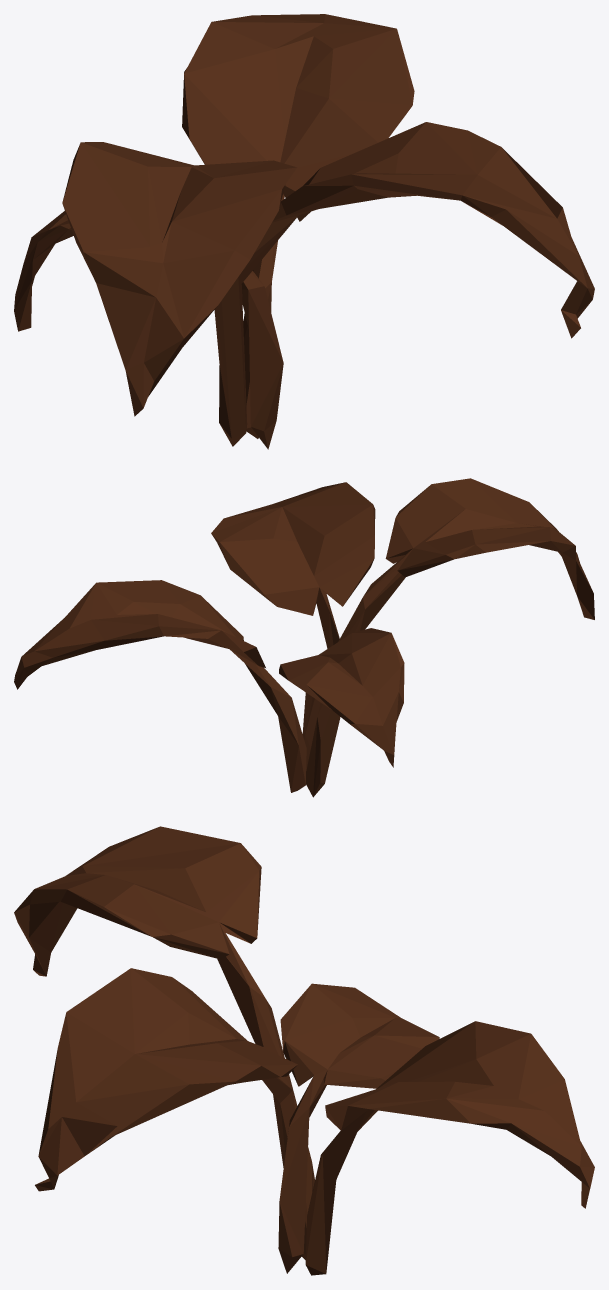
Rendered from ShrubLeaves02.fbx.
The picture shows the model from 3 angles, top to bottom: view 1: azimuth 30°, elevation 25°; view 2: azimuth 150°, elevation 25°; view 3: azimuth 270°, elevation 25°; orthographic projection. The views are drawn at different scales.
Parts seen in each view (by area): view 1: ShrubLeaves02; view 2: ShrubLeaves02; view 3: ShrubLeaves02.
Boxes of the visible parts, left/top/right/bottom form: ShrubLeaves02: left=14, top=14, right=594, bottom=449; ShrubLeaves02: left=14, top=478, right=594, bottom=797; ShrubLeaves02: left=14, top=826, right=594, bottom=1275.
Bounding box in the file's own units: 95.94 × 64.22 × 99.18.
